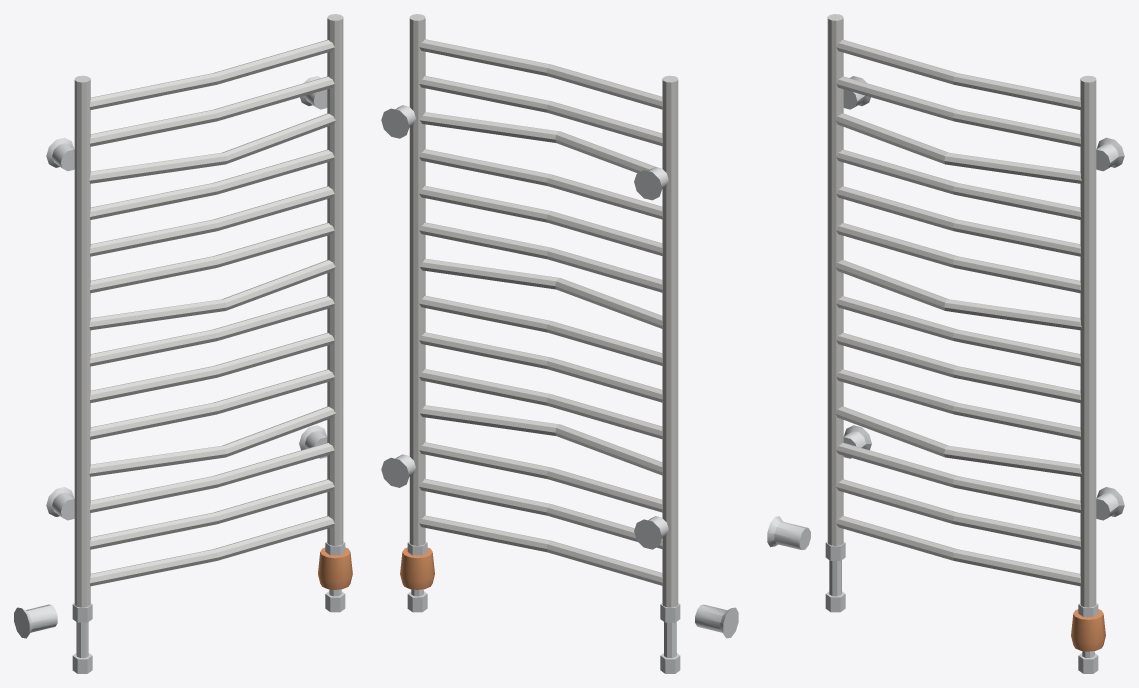
Rendered from home-appliances-and-utility-towel-rail-heated-d1e053fa__14141.glb.
3 renders of one model, left to right at view 1: azimuth 30°, elevation 25°; view 2: azimuth 150°, elevation 25°; view 3: azimuth 330°, elevation 25°, orthographic.
Visible parts, largest first — view 1: towel-rail-heated; view 2: towel-rail-heated; view 3: towel-rail-heated.
Part boxes in pixels (x1,y1,x2,y2): towel-rail-heated: (14, 14, 352, 673); towel-rail-heated: (381, 14, 738, 673); towel-rail-heated: (767, 14, 1124, 673).
Size of the model in its own units: 0.65 by 1.12 by 0.137.
